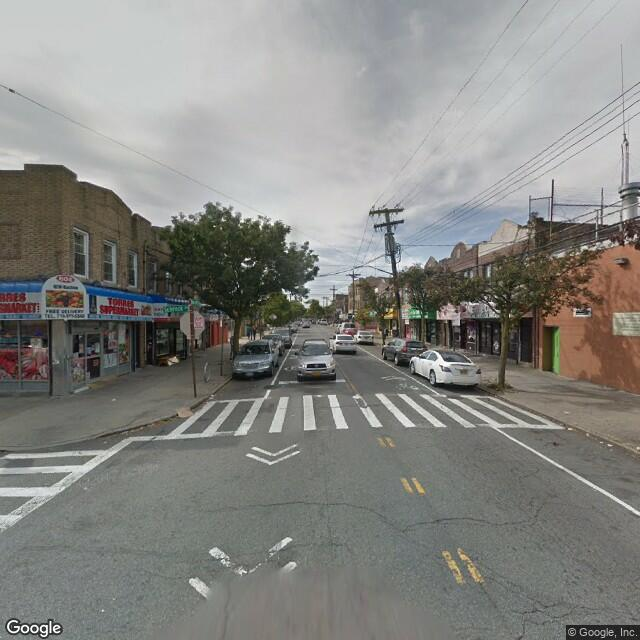litter: (608, 442, 613, 446), (570, 427, 575, 430), (112, 396, 114, 400), (585, 433, 588, 435), (599, 440, 602, 441)
